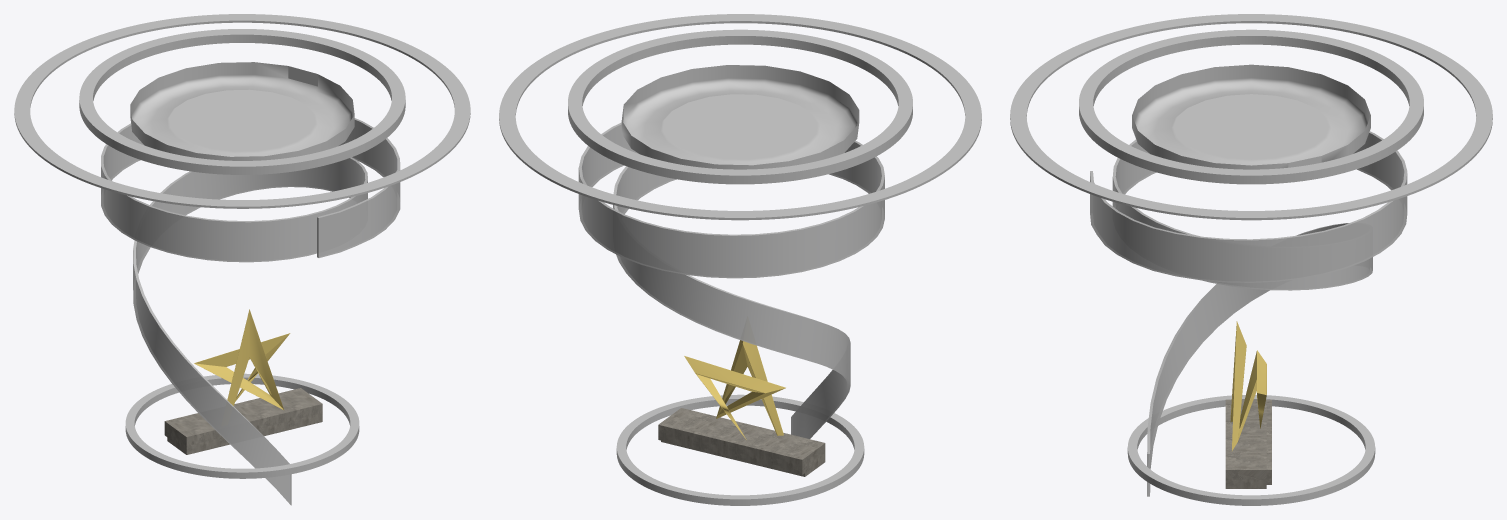
The model's file is scupture_1.fbx.
3 renders of one model, left to right at view 1: azimuth 30°, elevation 25°; view 2: azimuth 150°, elevation 25°; view 3: azimuth 270°, elevation 25°, orthographic. The views are drawn at different scales.
Visible parts, largest first — view 1: 13CJ_ZDCJ_DD0025, 13CJ_ZDCJ_CDAI, 13ZDCJ_WJX, 13CJ_ZDCJ_WXIN; view 2: 13CJ_ZDCJ_DD0025, 13CJ_ZDCJ_CDAI, 13ZDCJ_WJX, 13CJ_ZDCJ_WXIN; view 3: 13CJ_ZDCJ_DD0025, 13CJ_ZDCJ_CDAI, 13ZDCJ_WJX, 13CJ_ZDCJ_WXIN.
Boxes of the visible parts, box(x1,y1,x2,y2) form: 13CJ_ZDCJ_DD0025: box(14, 14, 470, 478); 13CJ_ZDCJ_CDAI: box(101, 118, 400, 505); 13ZDCJ_WJX: box(130, 62, 354, 160); 13CJ_ZDCJ_WXIN: box(164, 309, 322, 454); 13CJ_ZDCJ_DD0025: box(499, 14, 981, 505); 13CJ_ZDCJ_CDAI: box(578, 122, 884, 438); 13ZDCJ_WJX: box(621, 65, 859, 169); 13CJ_ZDCJ_WXIN: box(658, 340, 825, 476); 13CJ_ZDCJ_DD0025: box(1010, 14, 1492, 505); 13CJ_ZDCJ_CDAI: box(1090, 131, 1407, 496); 13ZDCJ_WJX: box(1132, 64, 1370, 169); 13CJ_ZDCJ_WXIN: box(1225, 321, 1271, 488).
Size of the model in its own units: 5.3 by 4.77 by 5.3.
